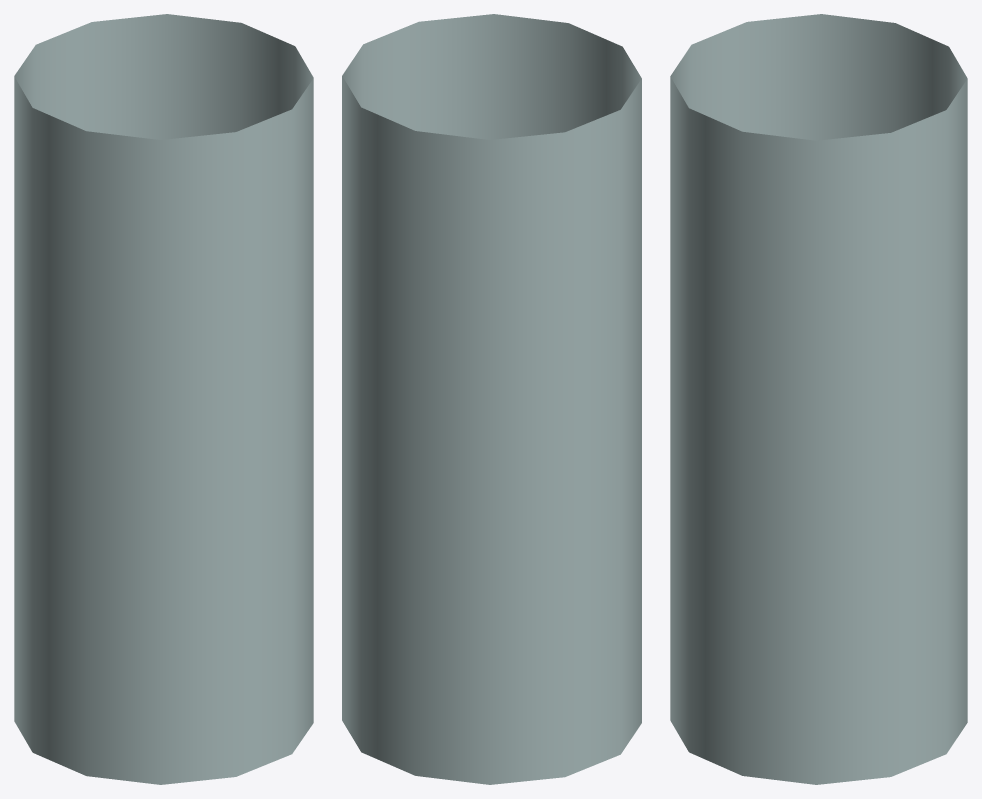
Rendered from spring_LOW.obj.
The picture shows the model from 3 angles, left to right: view 1: azimuth 30°, elevation 25°; view 2: azimuth 150°, elevation 25°; view 3: azimuth 270°, elevation 25°; orthographic projection.
Parts seen in each view (by area): view 1: spring_LOW.obj; view 2: spring_LOW.obj; view 3: spring_LOW.obj.
Boxes of the visible parts, x1,y1,x2,y2 form: spring_LOW.obj: (14, 14, 313, 784); spring_LOW.obj: (342, 14, 641, 784); spring_LOW.obj: (670, 14, 967, 784).
Size of the model in its own units: 0.1695 by 0.4015 by 0.168.
